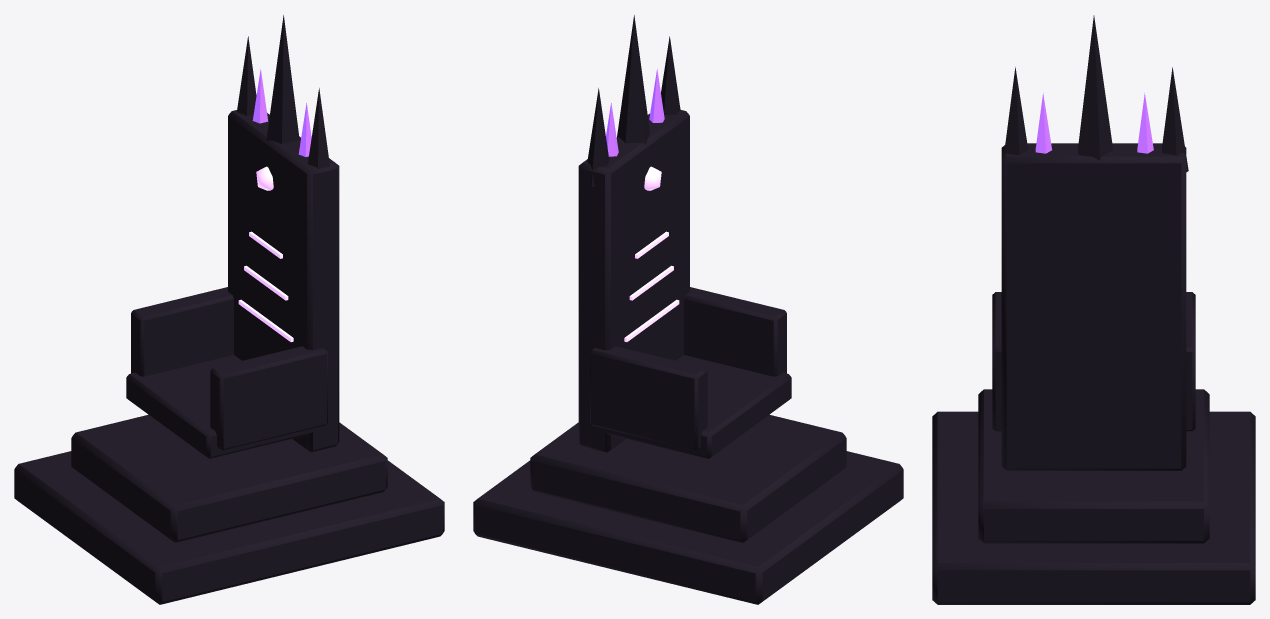
Rendered from riftthrone.glb.
3 renders of one model, left to right at view 1: azimuth 30°, elevation 25°; view 2: azimuth 150°, elevation 25°; view 3: azimuth 270°, elevation 25°, orthographic. The views are drawn at different scales.
Parts seen in each view (by area): view 1: building; view 2: building; view 3: building.
Boxes of the visible parts, x1,y1,x2,y2 form: building: (14,15,444,604); building: (473,15,903,604); building: (932,15,1255,604).
Size of the model in its own units: 1.6 by 2.6 by 1.4.
